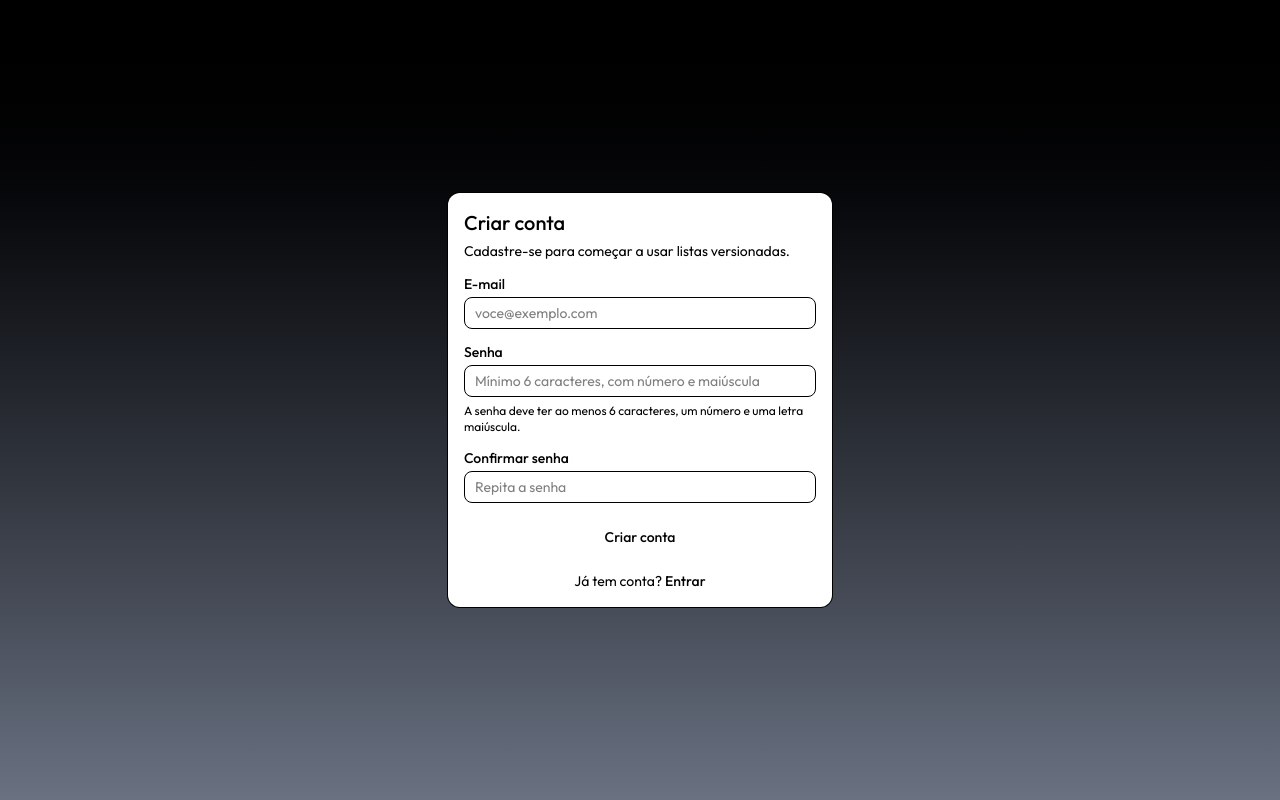
it: Cadastro de usuário (frontend) › valida senhas divergentes
Type "teste@exemplo.com" into the field labelled "E-mail" at (640, 313), box [464,297,816,329]
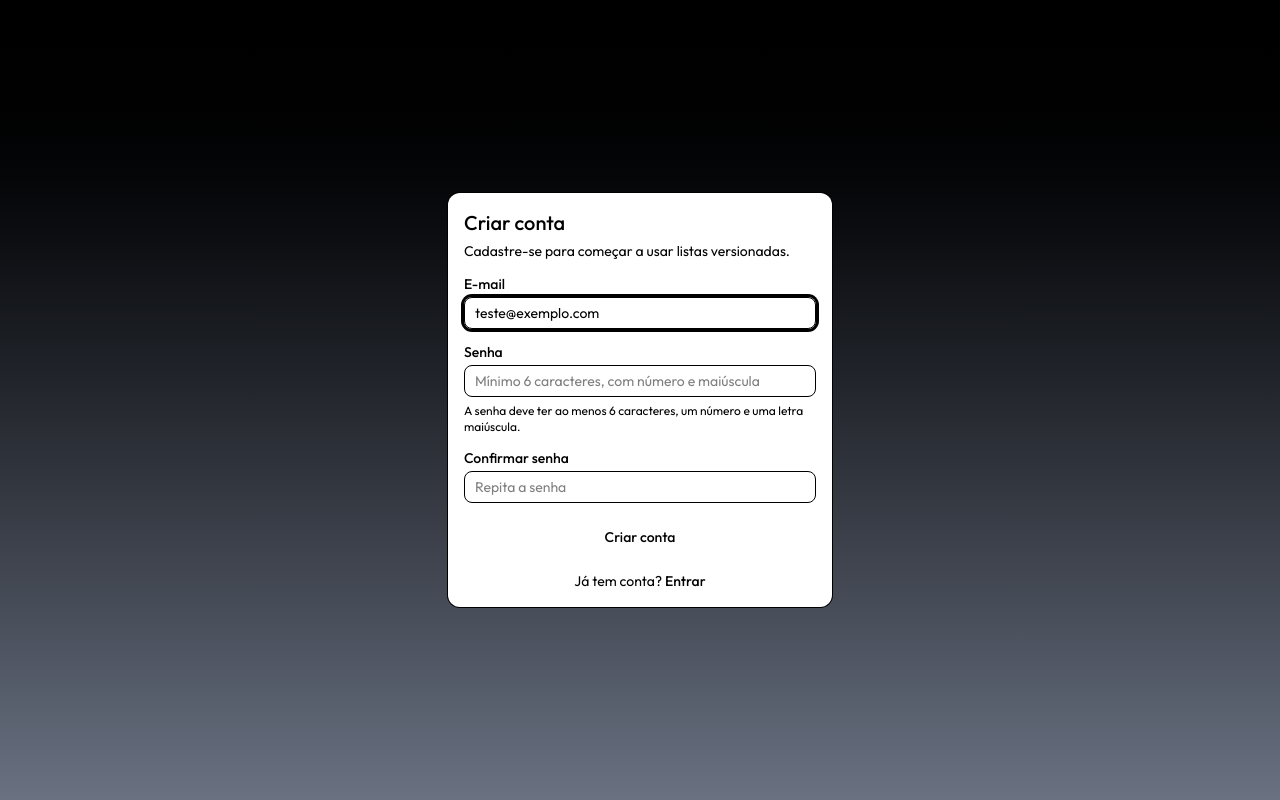
Type "Senha123" into the password field labelled "Senha" at (640, 381), box [464,365,816,397]
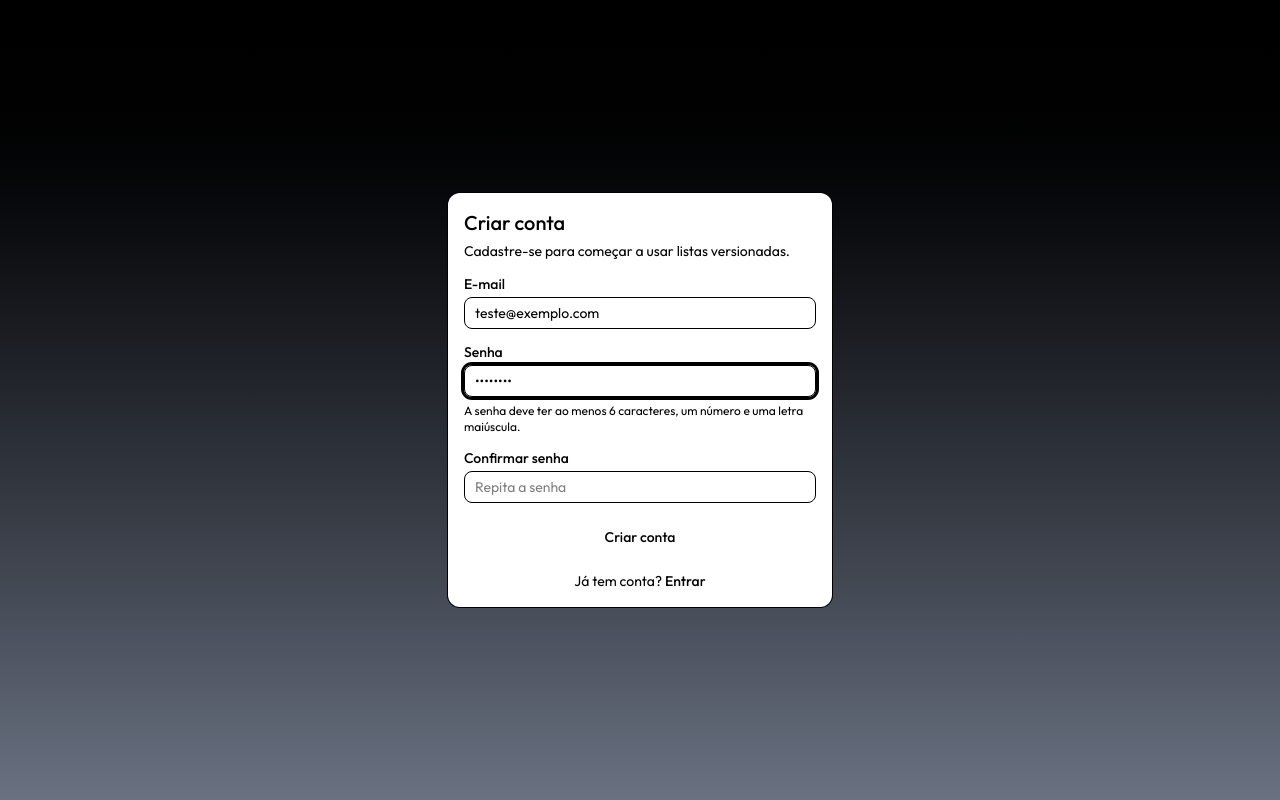
Type "Senha456" into the password field labelled "Confirmar senha" at (640, 487), box [464,471,816,503]
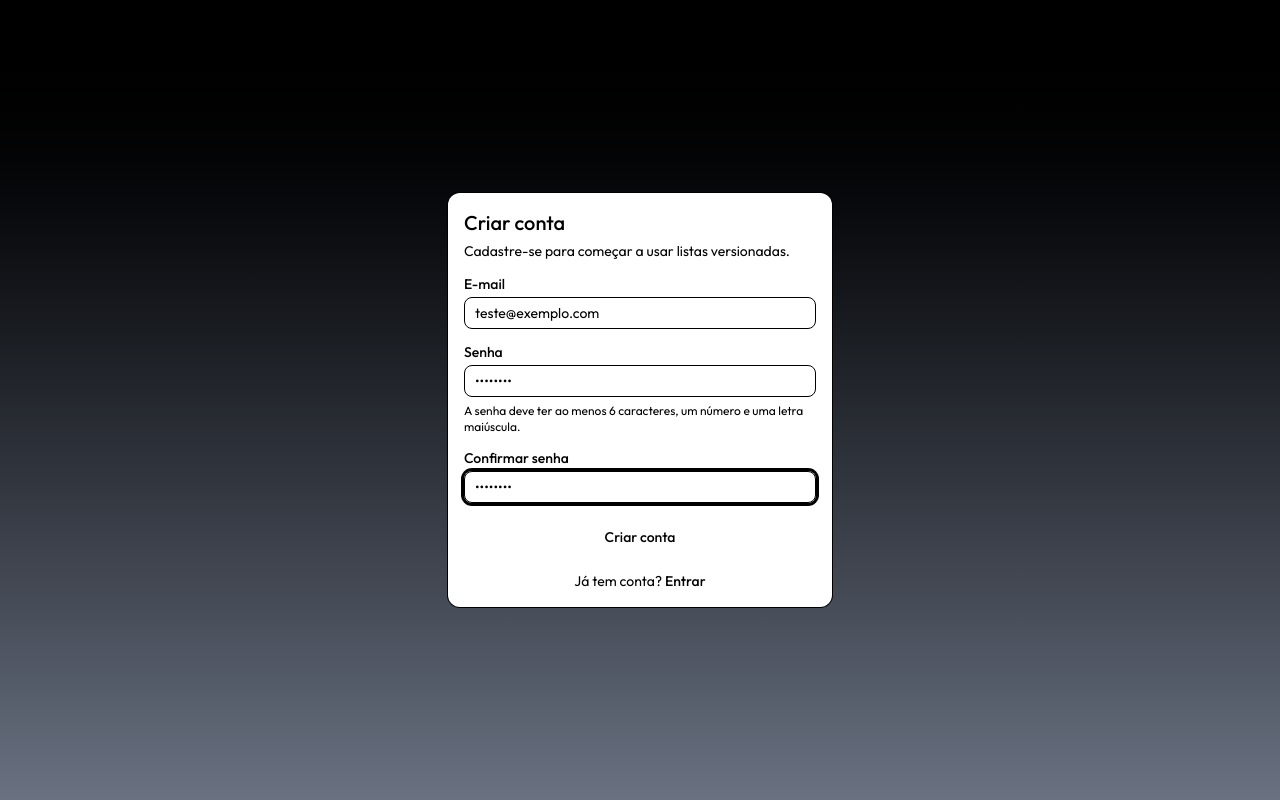
Click the button "Criar conta" at (640, 537), box [464,519,816,555]
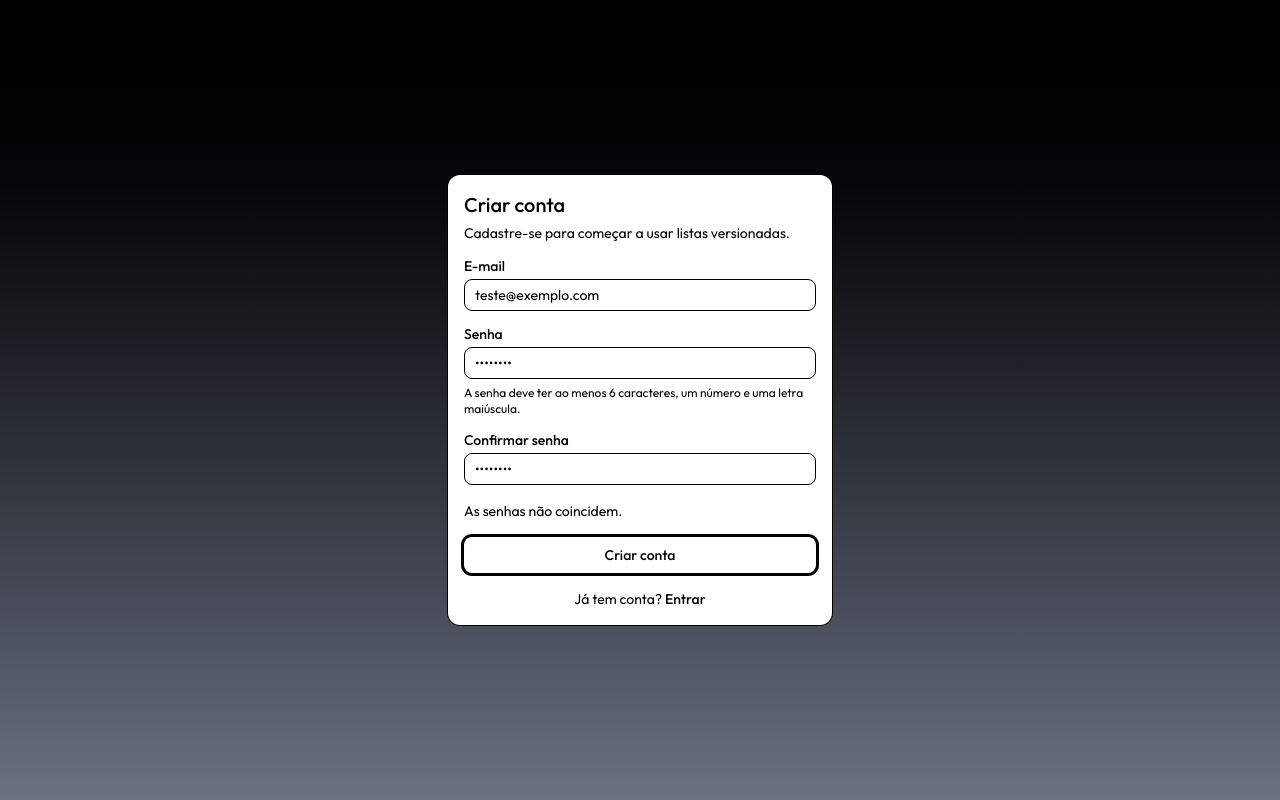
Result: the text "As senhas não coincidem." is shown at [464,502,622,520]
